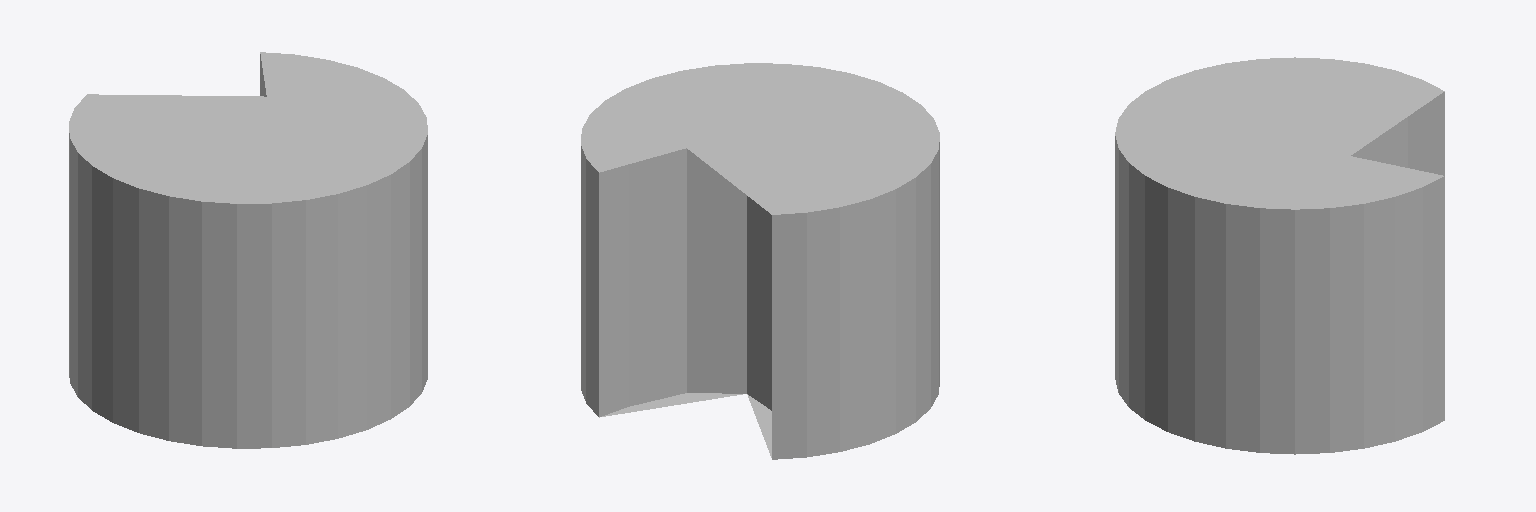
Rendered from RevolvingDoor.obj.
3 views of the same model, side by side, from view 1: azimuth 30°, elevation 25°; view 2: azimuth 150°, elevation 25°; view 3: azimuth 270°, elevation 25° (orthographic).
Visible parts, largest first — view 1: Cylinder; view 2: Cylinder; view 3: Cylinder.
Part boxes in pixels (left/top/right/bottom): Cylinder: left=69, top=52, right=427, bottom=448; Cylinder: left=581, top=63, right=939, bottom=459; Cylinder: left=1115, top=57, right=1444, bottom=454.
Bounding box in the file's own units: 2 × 1.5 × 1.83.